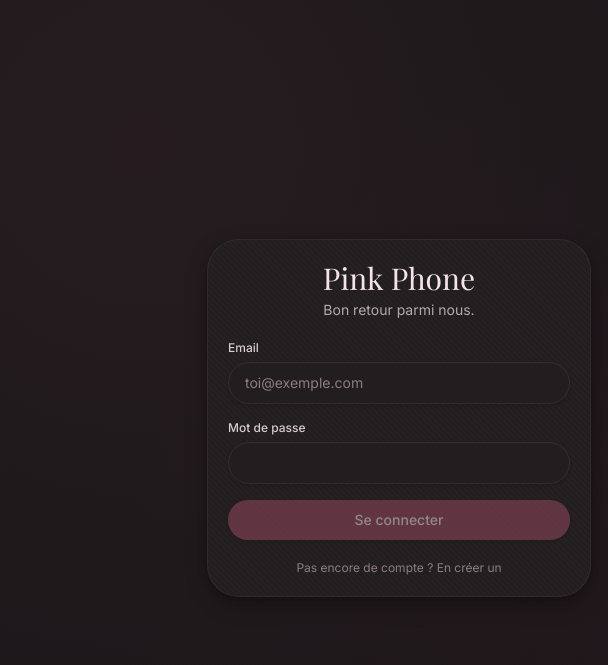
Test: AuthScreen › bascule en création : champ prénom requis + bouton « Créer mon compte »
Expected: the field labelled "Ton prénom" is not shown
Click the button "Pas encore de compte ? En créer un": x=399, y=568 [228,560,570,576]
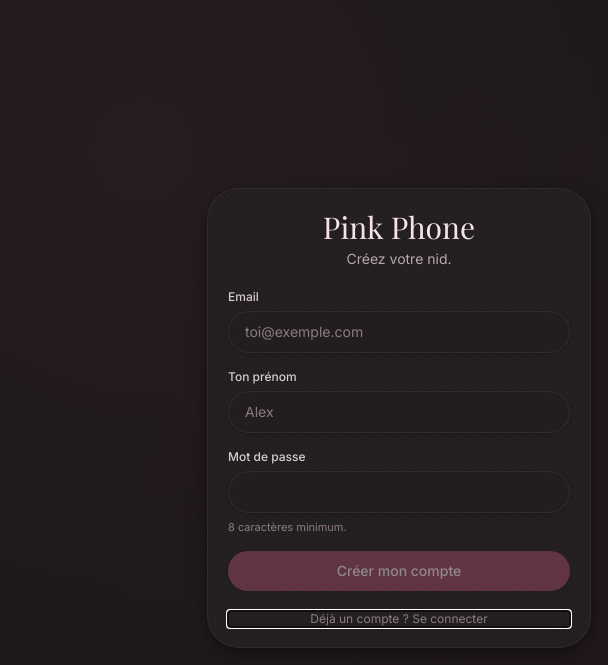
Now the field labelled "Ton prénom" is shown, box [228,391,570,433]
Now the button "Créer mon compte" is shown, box [228,551,570,591]
